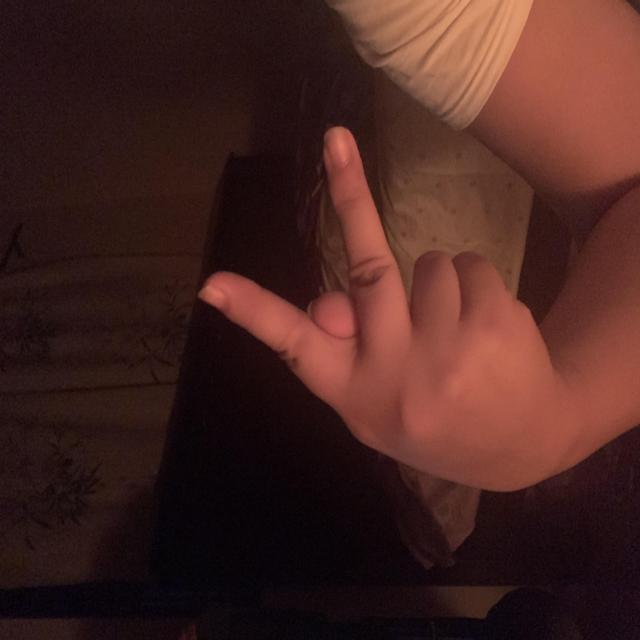K: (125, 195, 498, 560)
